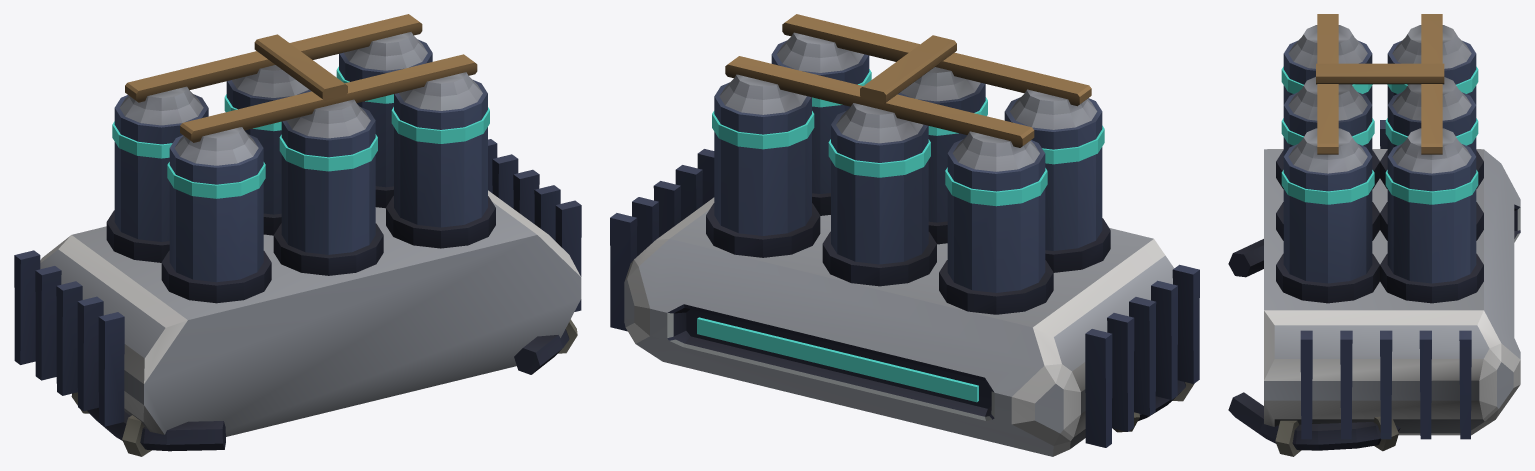
Rendered from pack-capacitor.glb.
The picture shows the model from 3 angles, left to right: view 1: azimuth 30°, elevation 25°; view 2: azimuth 150°, elevation 25°; view 3: azimuth 270°, elevation 25°; orthographic projection. The views are drawn at different scales.
Visible parts, largest first — view 1: Body, Glow; view 2: Body, Glow; view 3: Body, Glow.
Boxes of the visible parts, x1=… form: Body: x1=14, y1=14, x2=581, y2=456; Glow: x1=112, y1=66, x2=489, y2=198; Body: x1=610, y1=14, x2=1199, y2=456; Glow: x1=697, y1=69, x2=1104, y2=402; Body: x1=1228, y1=14, x2=1520, y2=456; Glow: x1=1281, y1=66, x2=1478, y2=204.
Size of the model in its own units: 1.7 by 1.04 by 0.9562.
